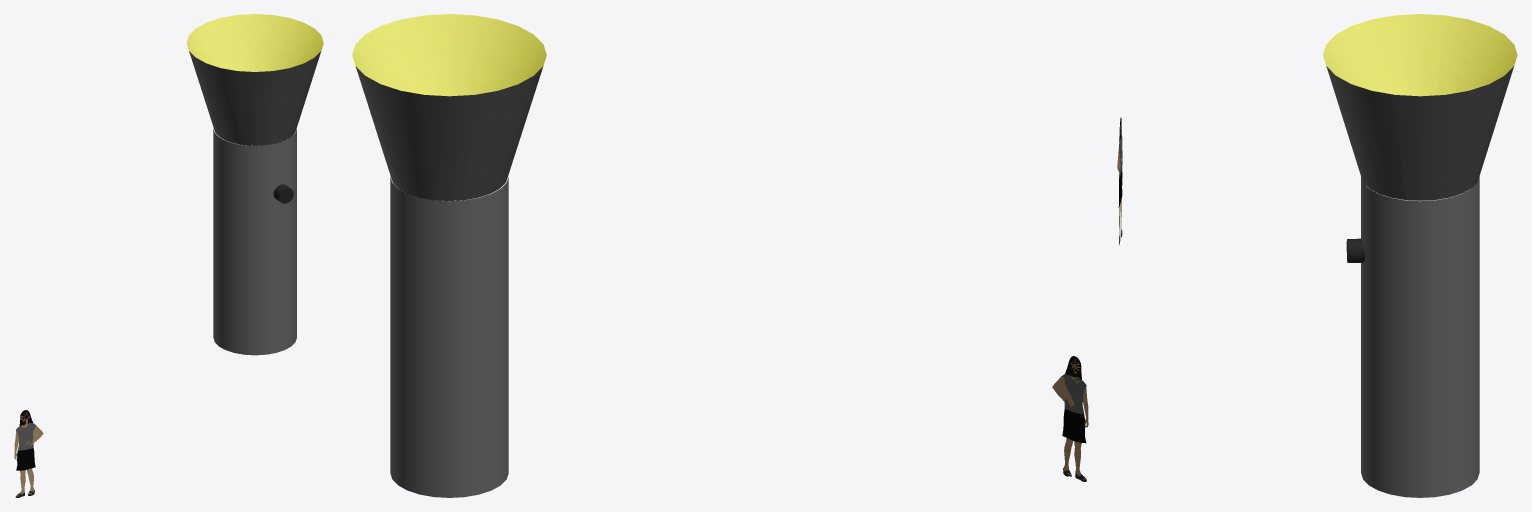
3 views of the same model, side by side, from view 1: azimuth 30°, elevation 25°; view 2: azimuth 150°, elevation 25°; view 3: azimuth 270°, elevation 25° (orthographic). The views are drawn at different scales.
Parts seen in each view (by area): view 1: Mesh2 Model, Mesh1 Sophie1 Model; view 2: Mesh2 Model, Mesh1 Sophie1 Model; view 3: Mesh2 Model, Mesh1 Sophie1 Model.
Part boxes in pixels (x1,y1,x2,y2): Mesh2 Model: (186,14,323,355); Mesh1 Sophie1 Model: (14,410,43,497); Mesh2 Model: (352,14,546,497); Mesh1 Sophie1 Model: (1052,356,1088,481); Mesh2 Model: (1323,14,1517,497); Mesh1 Sophie1 Model: (1117,117,1122,244).
Size of the model in its own units: 326 by 226 by 196.
